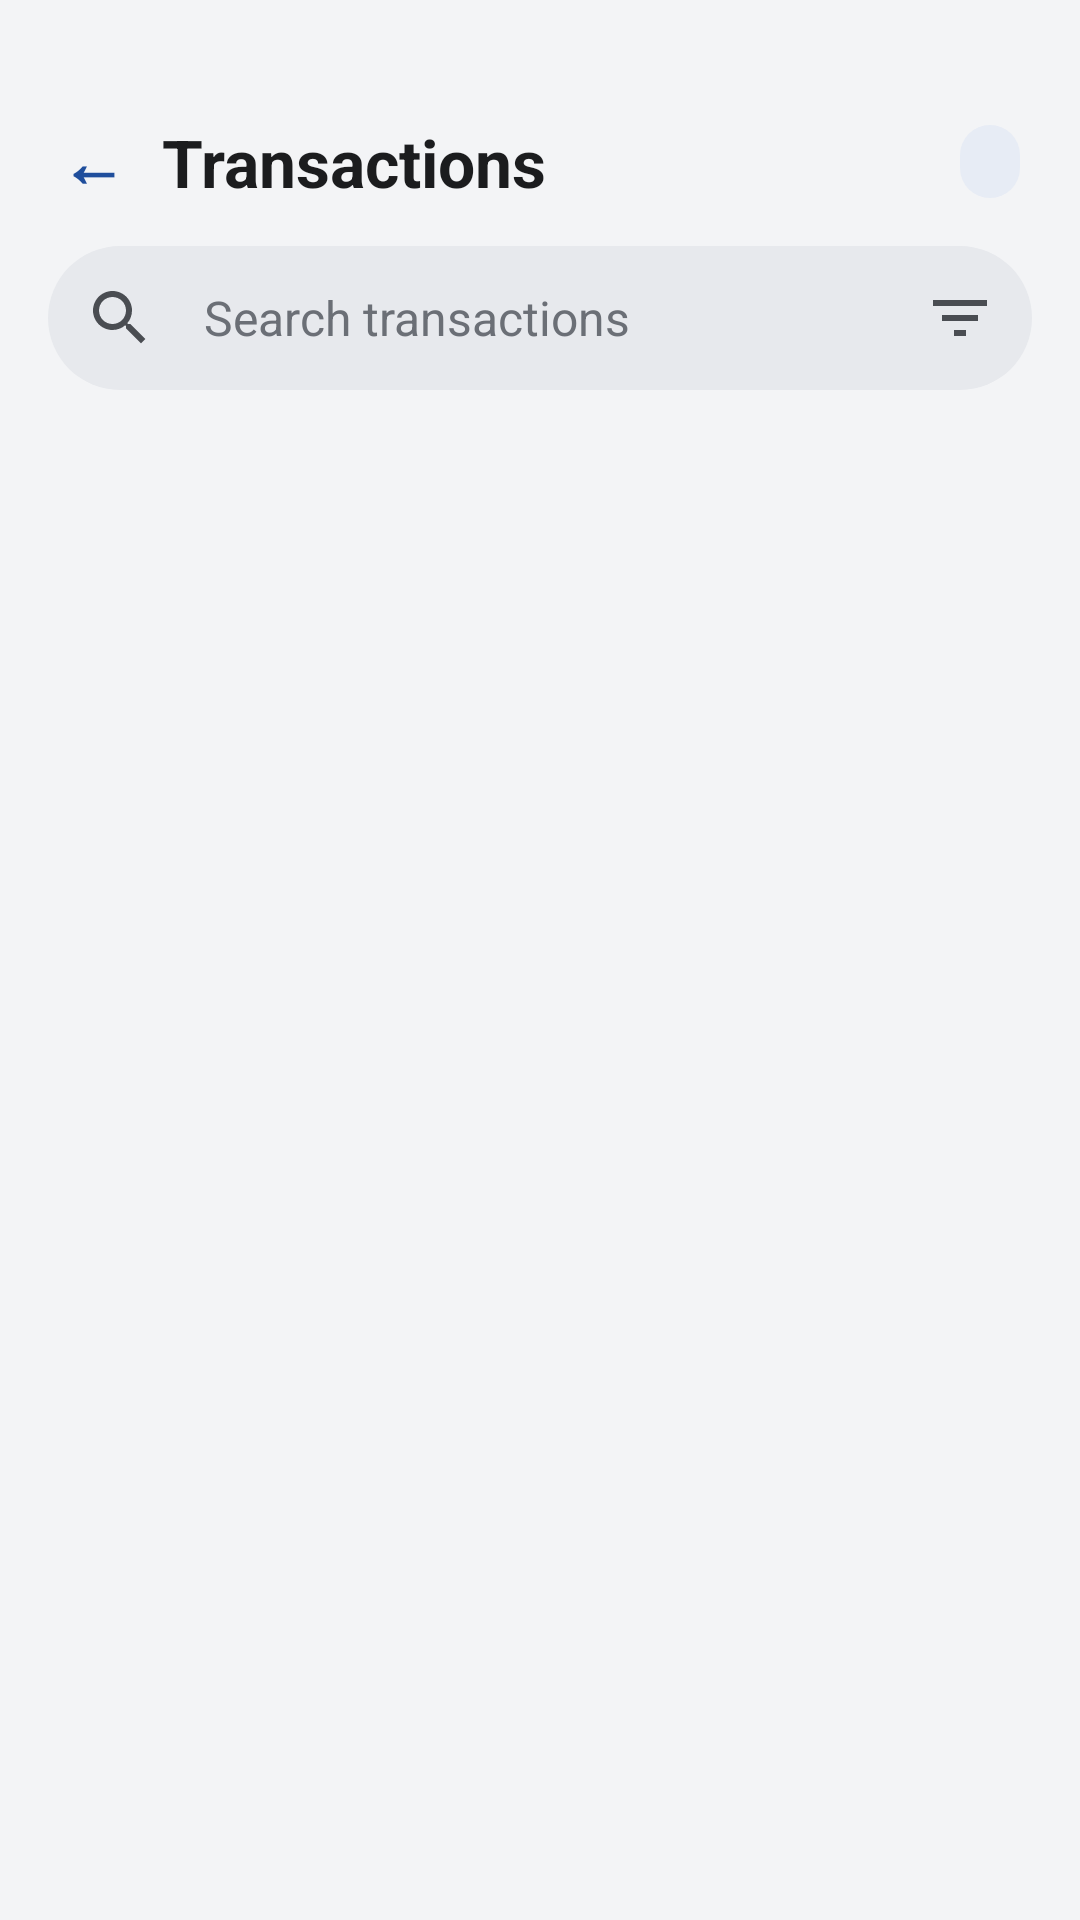

Icon bounding boxes for this 1080px×1920px phone screenshot, format [x1=x1, y1=y1, x2=x2, y2=y2]:
filter: [x1=933, y1=300, x2=987, y2=336]
